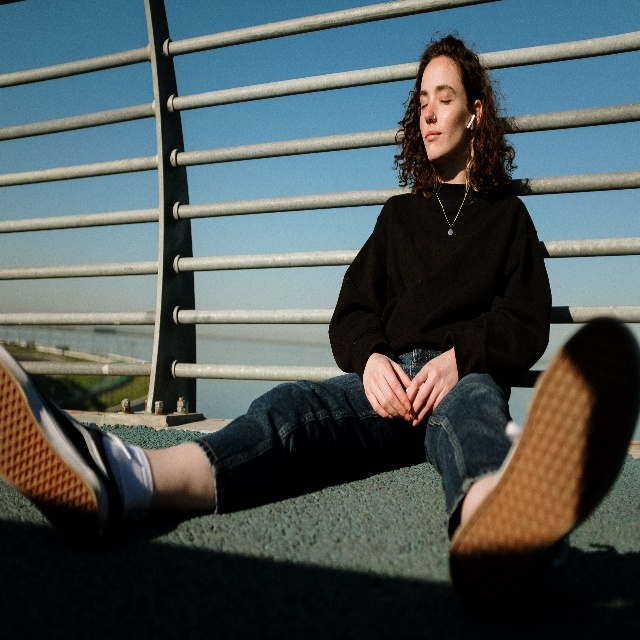Sin_guantes: (406, 346, 459, 427), (363, 352, 411, 422)
